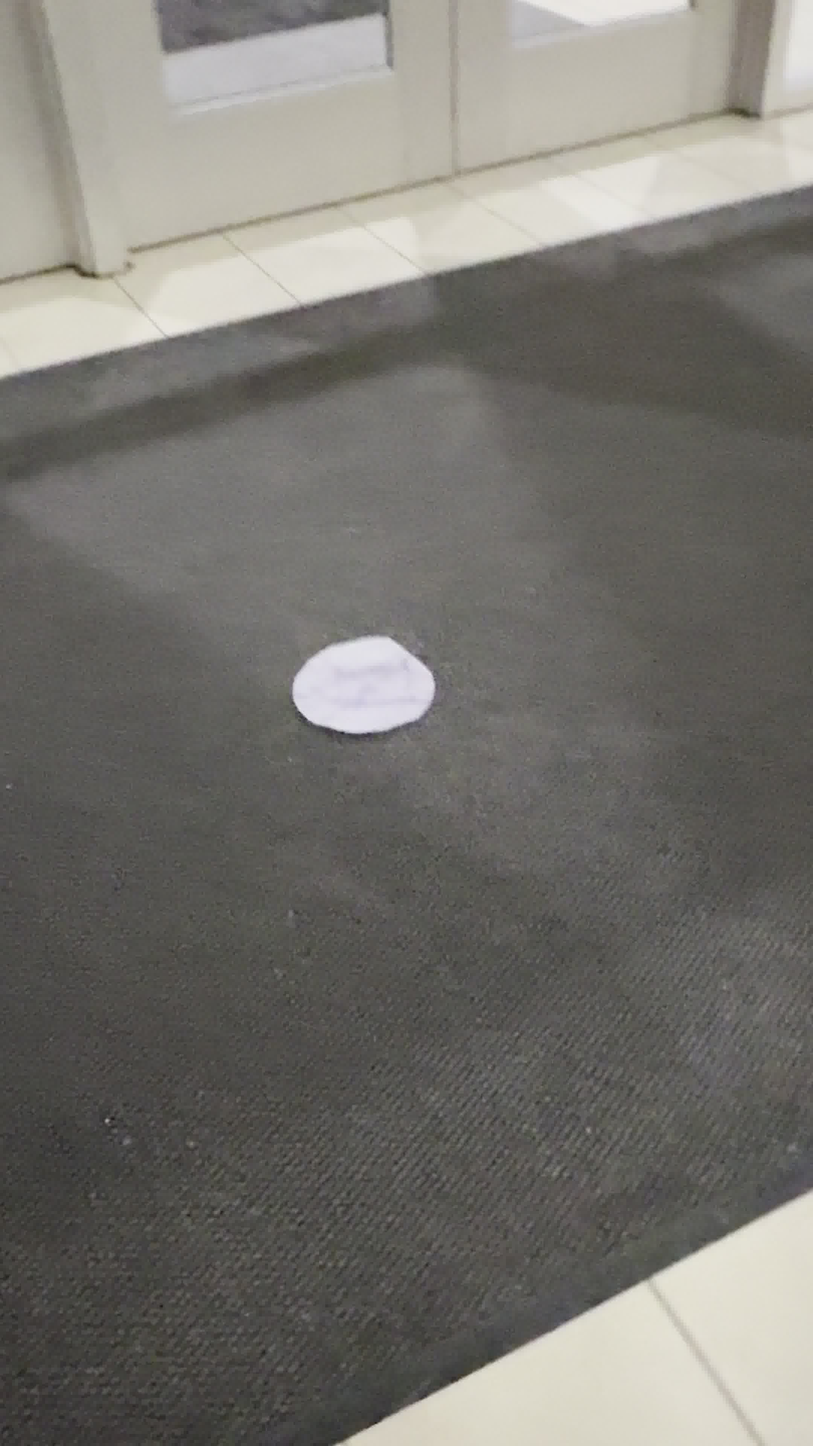Target: (292, 635, 435, 736)
